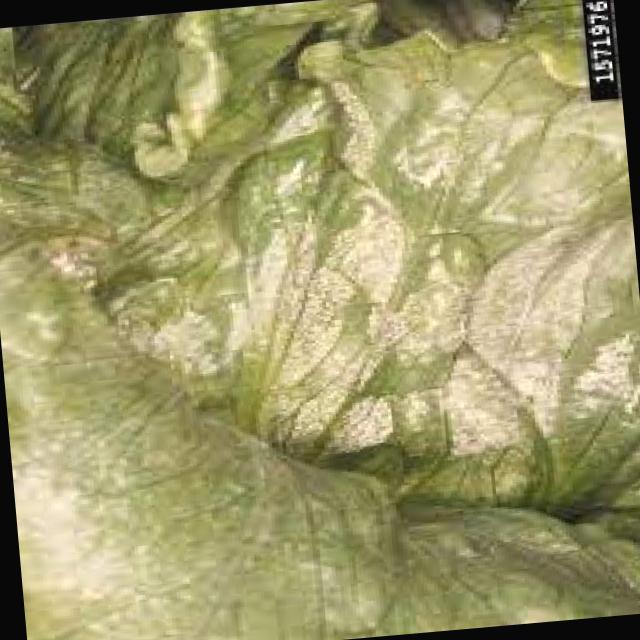Downy_Mildew: (236, 68, 602, 462)
